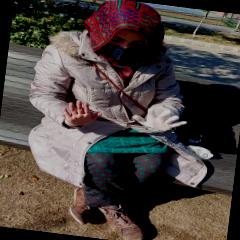gloved: (130, 106, 188, 136)
not-gloved: (58, 98, 102, 130)
